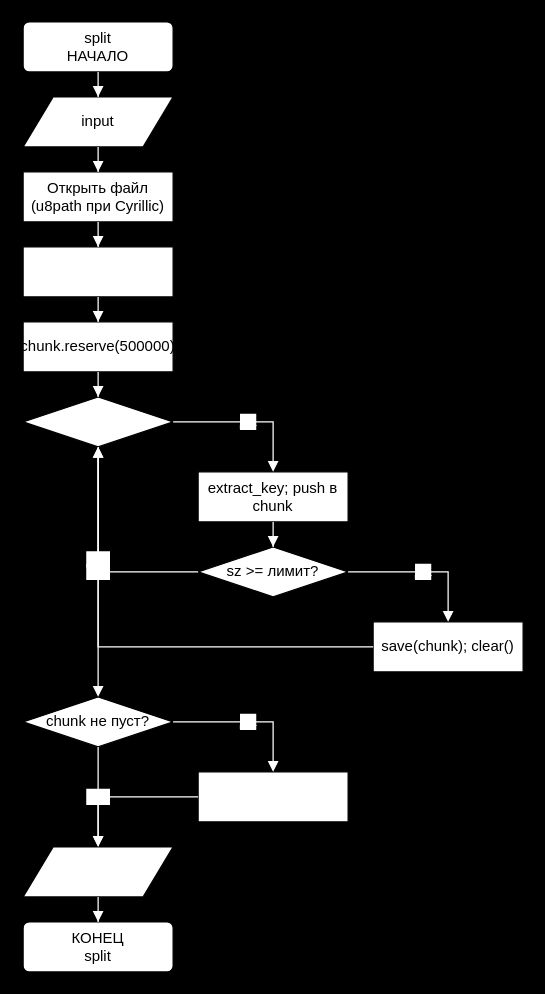
This 545x994 diagram has some shape labels left out. Here are the shapes that lost their labels. From the top down, the centre of each, then its label:
At (97,271): "Прочитать header".
At (97,421): "getline(line)?".
At (272,796): "save(chunk)".
At (97,871): "ВОЗВРАТ время".
